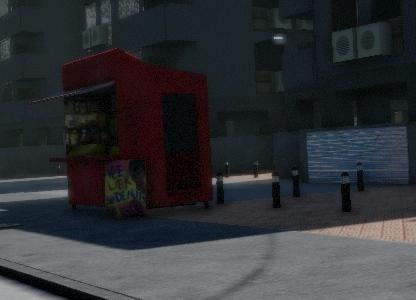Speed_60: (0, 103, 32, 146)
